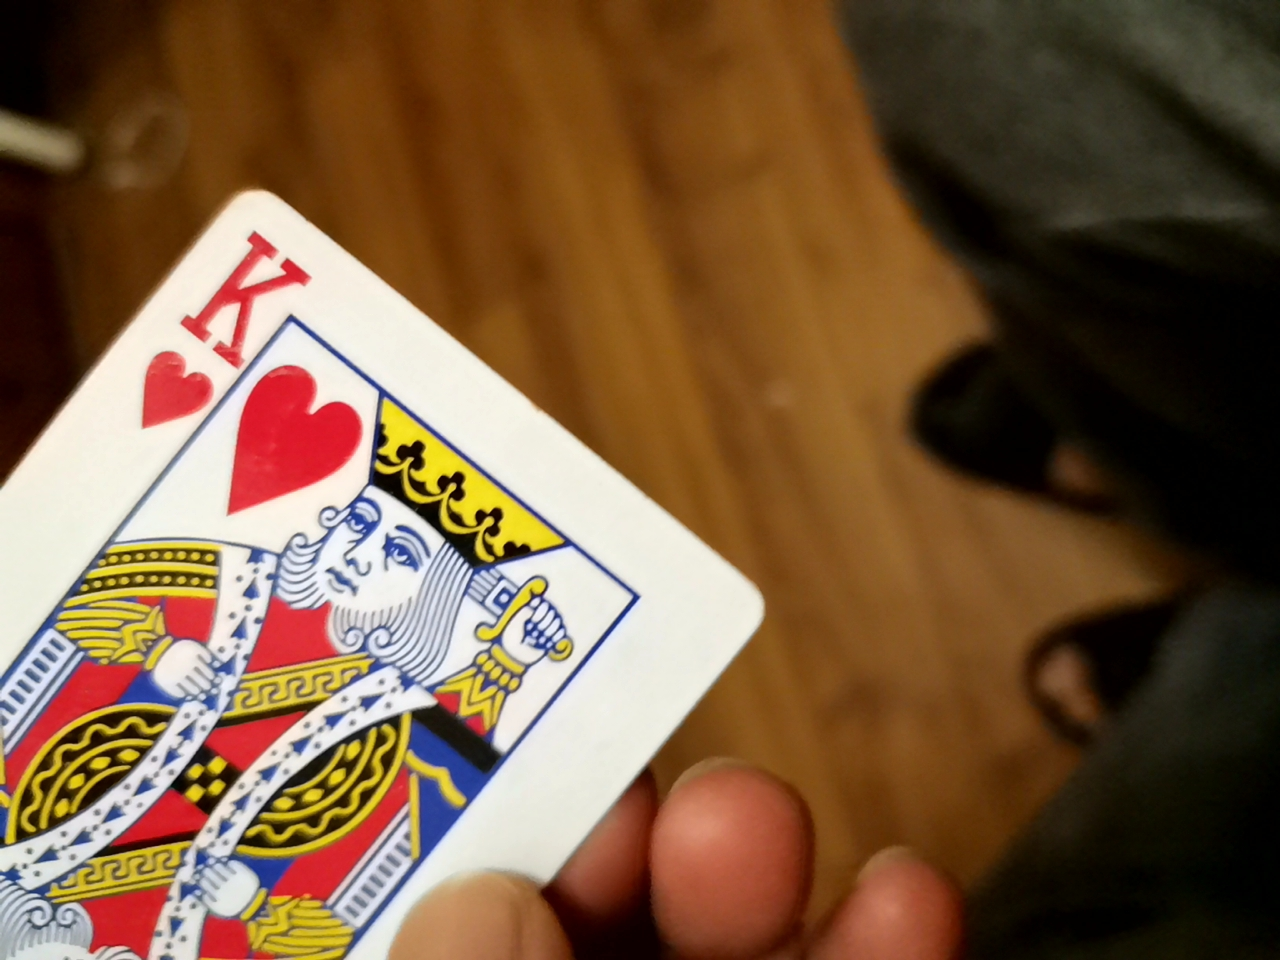hx k: (13, 182, 781, 960)
